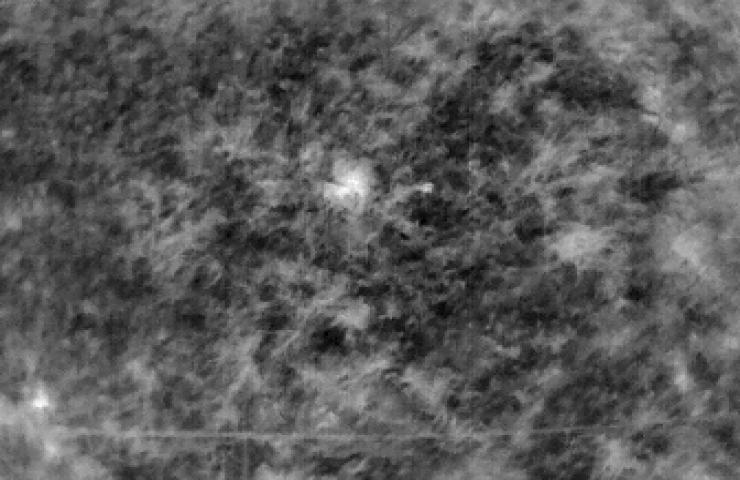landmines: (330, 160, 376, 204)
